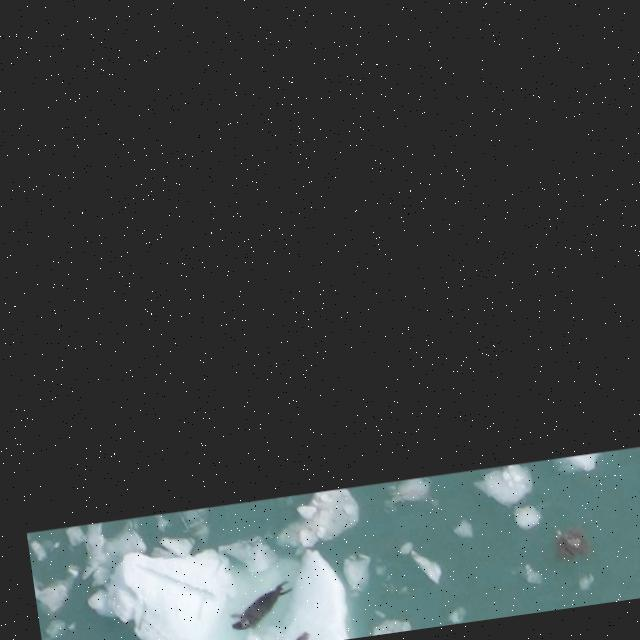seal: (232, 582, 294, 631), (297, 634, 311, 640)
